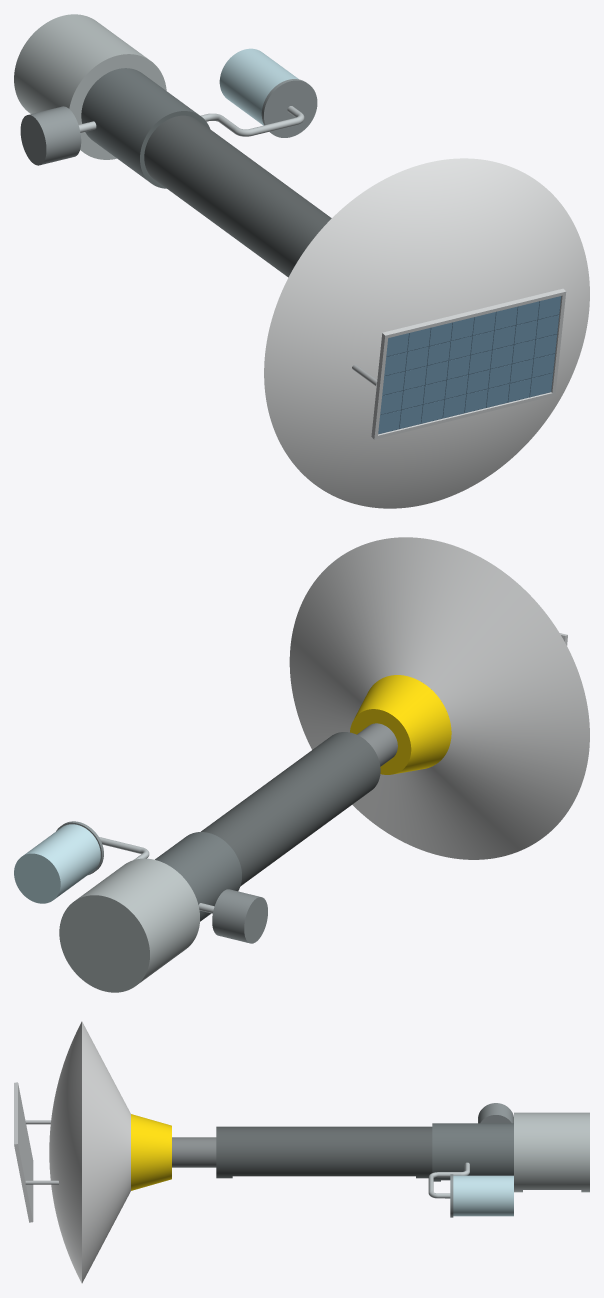
File: demo-project(final).glb
The picture shows the model from 3 angles, top to bottom: view 1: azimuth 30°, elevation 25°; view 2: azimuth 150°, elevation 25°; view 3: azimuth 270°, elevation 25°; orthographic projection. The views are drawn at different scales.
Parts seen in each view (by area): view 1: Part 46, Part 58, Part 57, Part 59, Part 56, Part 52, Part 50, Part 45, Part 4, Part 53; view 2: Part 46, Part 57, Part 58, Part 49, Part 52, Part 59, Part 50, Part 2; view 3: Part 46, Part 58, Part 57, Part 59, Part 49, Part 52, Part 56, Part 2, Part 50, Part 53.
Part boxes in pixels (<box>): Part 46: <box>264,158,589,508</box>; Part 58: <box>144,115,331,277</box>; Part 57: <box>14,14,166,159</box>; Part 59: <box>81,68,209,188</box>; Part 56: <box>371,288,566,439</box>; Part 52: <box>219,48,298,125</box>; Part 50: <box>20,106,81,165</box>; Part 45: <box>261,79,317,137</box>; Part 4: <box>378,296,561,434</box>; Part 53: <box>200,106,304,136</box>; Part 46: <box>289,537,589,859</box>; Part 57: <box>59,858,199,992</box>; Part 58: <box>201,732,380,886</box>; Part 49: <box>350,675,451,774</box>; Part 52: <box>14,824,100,903</box>; Part 59: <box>155,832,241,921</box>; Part 50: <box>212,889,267,943</box>; Part 2: <box>357,723,397,766</box>; Part 46: <box>49,1021,130,1283</box>; Part 58: <box>216,1126,432,1178</box>; Part 57: <box>514,1112,589,1192</box>; Part 59: <box>432,1123,513,1181</box>; Part 49: <box>131,1114,171,1190</box>; Part 52: <box>453,1175,513,1216</box>; Part 56: <box>14,1082,33,1222</box>; Part 2: <box>172,1137,216,1167</box>; Part 50: <box>478,1103,513,1123</box>; Part 53: <box>428,1162,469,1198</box>.
Bounding box in the file's own units: 2.25 × 2.25 × 4.93.
